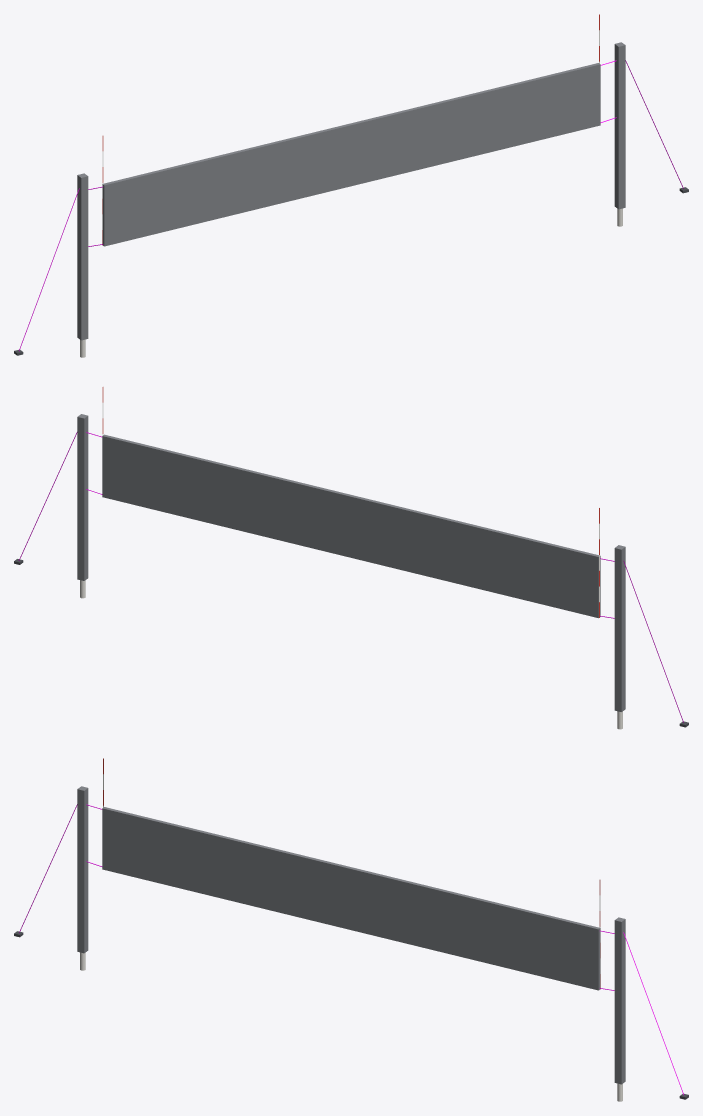
The model's file is prop_volleyball_net.glb.
3 renders of one model, top to bottom at view 1: azimuth 30°, elevation 25°; view 2: azimuth 150°, elevation 25°; view 3: azimuth 330°, elevation 25°, orthographic.
Parts seen in each view (by area): view 1: prop_volleyball_net__col, prop_volleyball_net__mesh; view 2: prop_volleyball_net__col, prop_volleyball_net__mesh; view 3: prop_volleyball_net__col, prop_volleyball_net__mesh.
Boxes of the visible parts, <box> form: prop_volleyball_net__col: <box>77,42,625,340</box>; prop_volleyball_net__mesh: <box>14,14,688,357</box>; prop_volleyball_net__col: <box>77,414,625,711</box>; prop_volleyball_net__mesh: <box>14,387,688,729</box>; prop_volleyball_net__col: <box>77,786,625,1084</box>; prop_volleyball_net__mesh: <box>14,758,688,1101</box>.
Size of the model in its own units: 11.5 by 3.53 by 0.12.
1 material, 1 textured.
